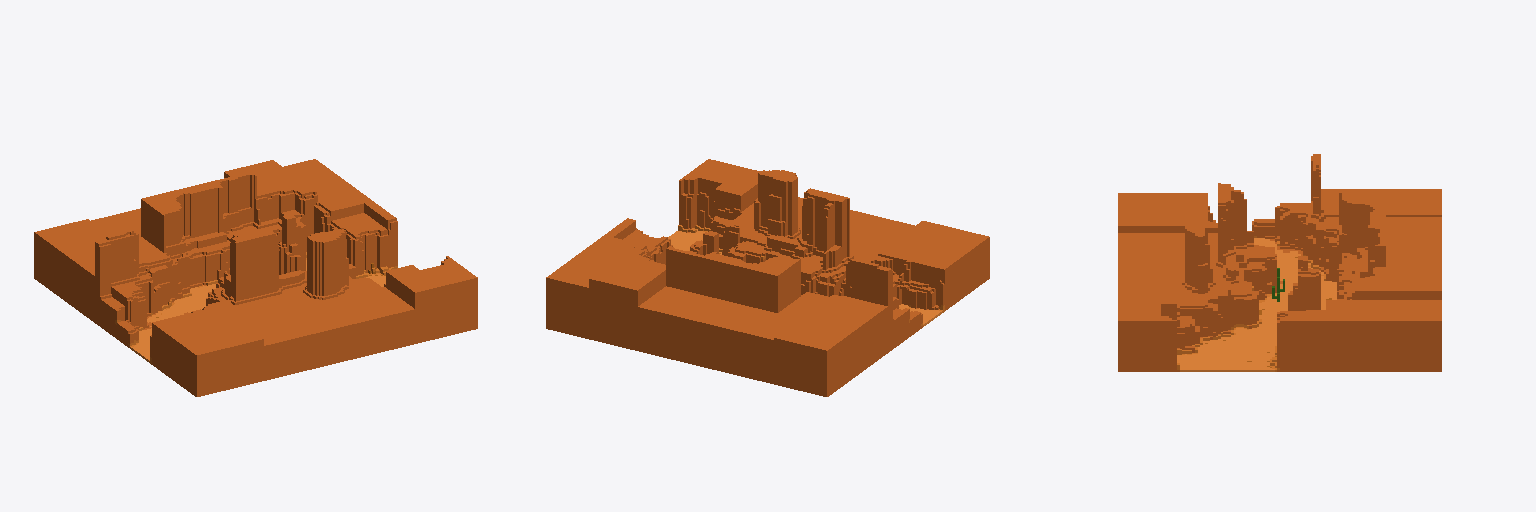
The picture shows the model from 3 angles: view 1: azimuth 30°, elevation 25°; view 2: azimuth 150°, elevation 25°; view 3: azimuth 270°, elevation 25°; orthographic projection.
Bounding box in the file's own units: 126 × 41 × 126.
Materials: 1 (1 with a texture image).